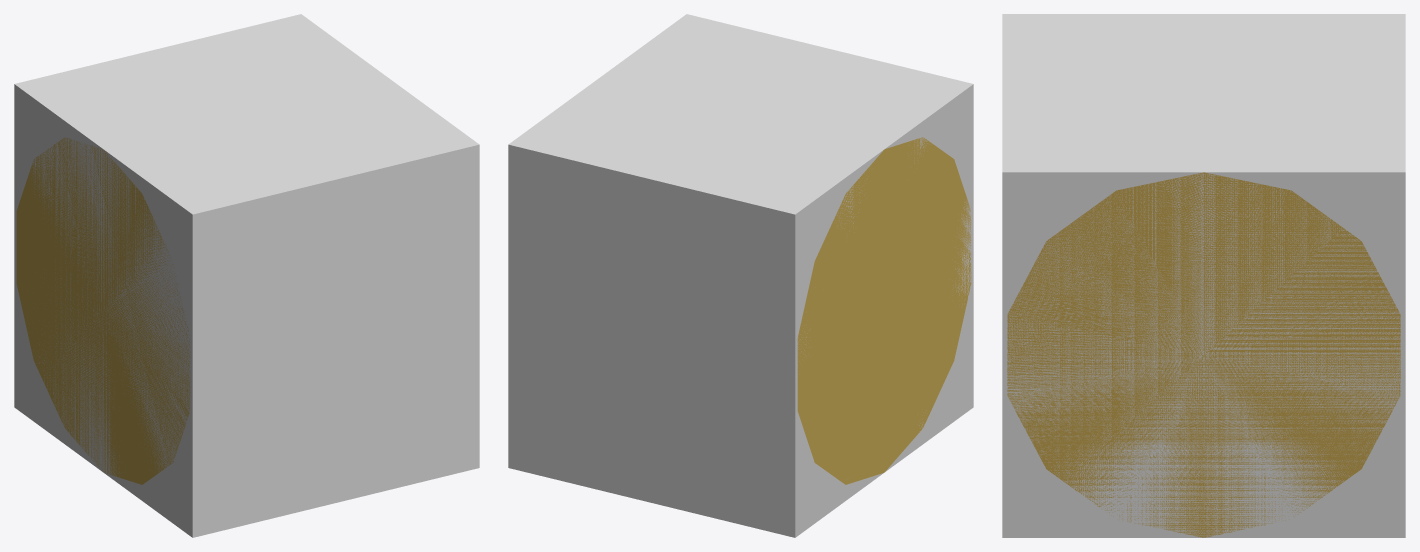
File: fardo_heno.glb
3 renders of one model, left to right at view 1: azimuth 30°, elevation 25°; view 2: azimuth 150°, elevation 25°; view 3: azimuth 270°, elevation 25°, orthographic. The views are drawn at different scales.
Parts seen in each view (by area): view 1: COL_0, fardo_heno_Malla; view 2: COL_0, fardo_heno_Malla; view 3: COL_0, fardo_heno_Malla.
Boxes of the visible parts, box(x1,y1,x2,y2) form: COL_0: box(14, 14, 479, 537); fardo_heno_Malla: box(16, 137, 190, 484); COL_0: box(508, 14, 973, 537); fardo_heno_Malla: box(797, 137, 971, 484); COL_0: box(1002, 14, 1405, 537); fardo_heno_Malla: box(1007, 172, 1400, 537).
Bounding box in the file's own units: 1.3 × 1.4 × 1.4.
